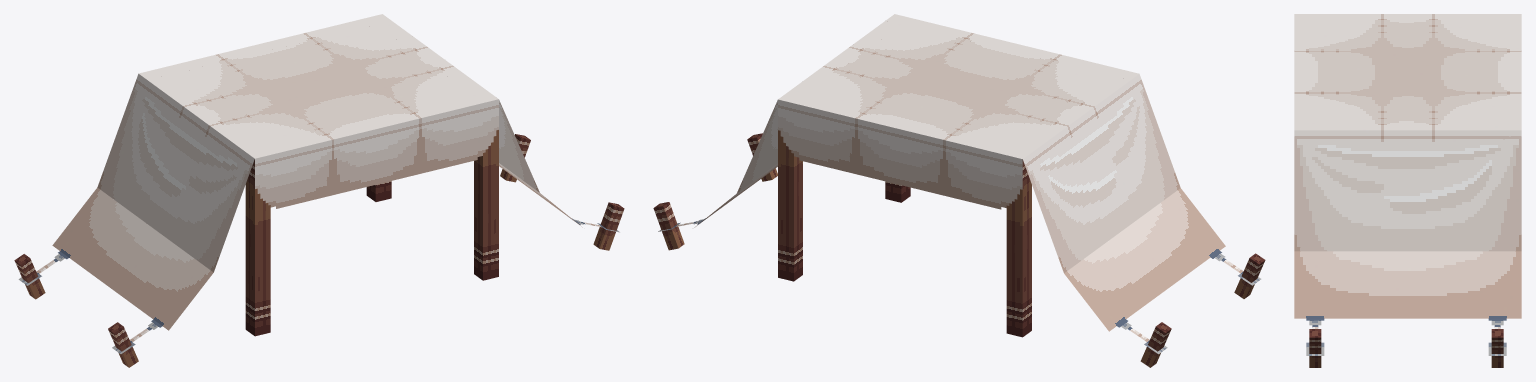
The model's file is tent.gltf.
The picture shows the model from 3 angles, left to right: view 1: azimuth 30°, elevation 25°; view 2: azimuth 150°, elevation 25°; view 3: azimuth 270°, elevation 25°; orthographic projection. The views are drawn at different scales.
Parts seen in each view (by area): view 1: cube (×10); view 2: cube (×10); view 3: cube (×6).
Boxes of the visible parts, x1,y1,x2,y2 form: cube (×10): (14, 14, 624, 367); cube (×10): (653, 14, 1265, 367); cube (×6): (1294, 14, 1521, 367).
Size of the model in its own units: 3.01 by 1.05 by 1.19.
1 material, 1 textured.
